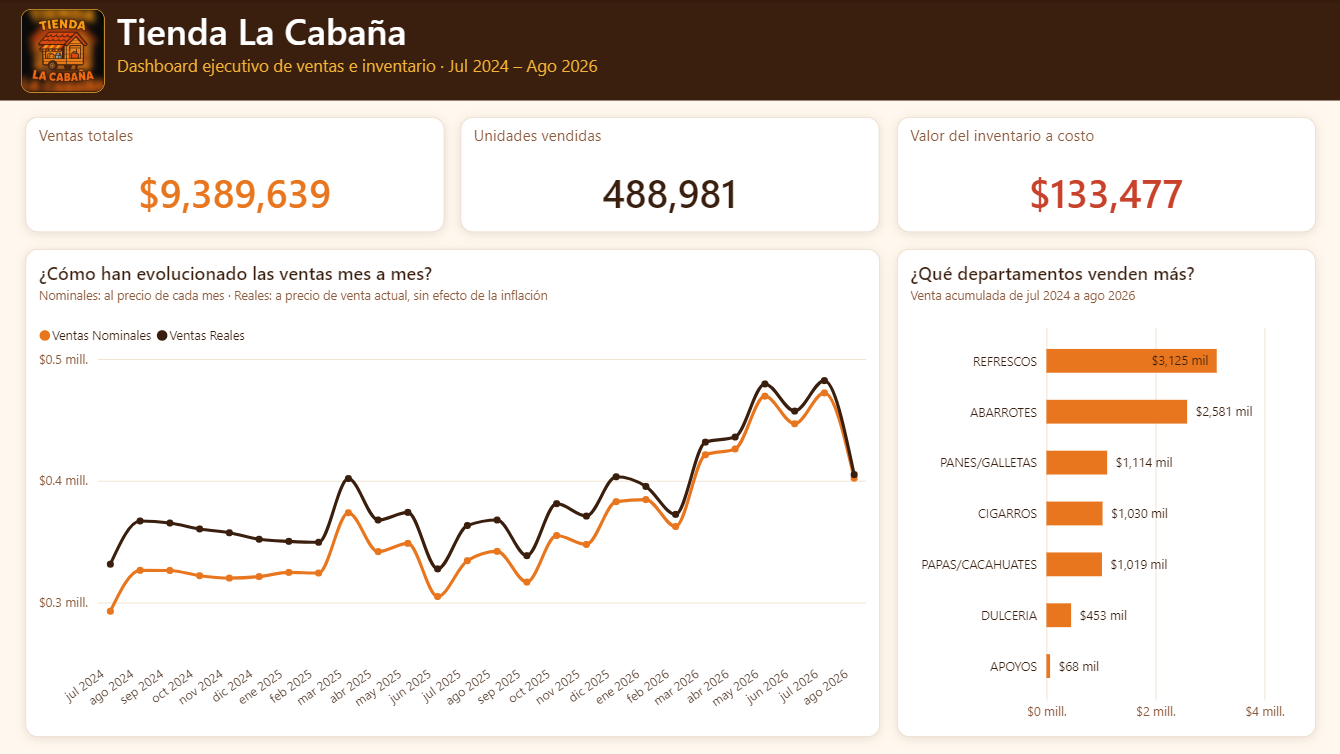

The dashboard page shown, as its layout file describes it:
{"tool":"powerbi","page":{"name":"Resumen ejecutivo","canvas":[1280,720],"ordinal":0},"visuals":[{"type":"textbox","box":[0,0,1280,96],"z":0},{"type":"image","box":[20,8,80,80],"z":1000},{"type":"textbox","box":[112,6,900,86],"z":2000},{"type":"card","title":"Ventas totales","fields":{"Values":["tienda vw_ventas_mensuales.Ventas Nominales"]},"box":[24,112,400,110],"z":3000},{"type":"card","title":"Unidades vendidas","fields":{"Values":["tienda vw_ventas_mensuales.Unidades (vista)"]},"box":[440,112,400,110],"z":4000},{"type":"card","title":"Valor del inventario a costo","fields":{"Values":["tienda vw_inventario_valorizado.Inventario a Costo (vista)"]},"box":[856,112,400,110],"z":5000},{"type":"lineChart","title":"¿Cómo han evolucionado las ventas mes a mes?","fields":{"Category":["Calendario.Periodo"],"Y":["tienda vw_ventas_mensuales.Ventas Nominales","tienda vw_ventas_mensuales.Ventas Reales"]},"box":[24,238,816,466],"z":6000},{"type":"clusteredBarChart","title":"¿Qué departamentos venden más?","fields":{"Category":["tienda vw_ventas_departamento_mes.departamento"],"Y":["tienda vw_ventas_departamento_mes.Ventas Departamento (vista)"]},"box":[856,238,400,466],"z":7000}]}

Visuals, with their boxes in screenshot pixels (x1, y1, x2, y2), scaled from the page's 1280x720 canvas onto the 1340x754 screenshot:
textbox: 0/0/1339/101
image: 21/8/105/92
textbox: 117/6/1059/96
"Ventas totales" card: 25/117/444/232
"Unidades vendidas" card: 461/117/879/232
"Valor del inventario a costo" card: 896/117/1315/232
"¿Cómo han evolucionado las ventas mes a mes?" lineChart: 25/249/879/737
"¿Qué departamentos venden más?" clusteredBarChart: 896/249/1315/737
